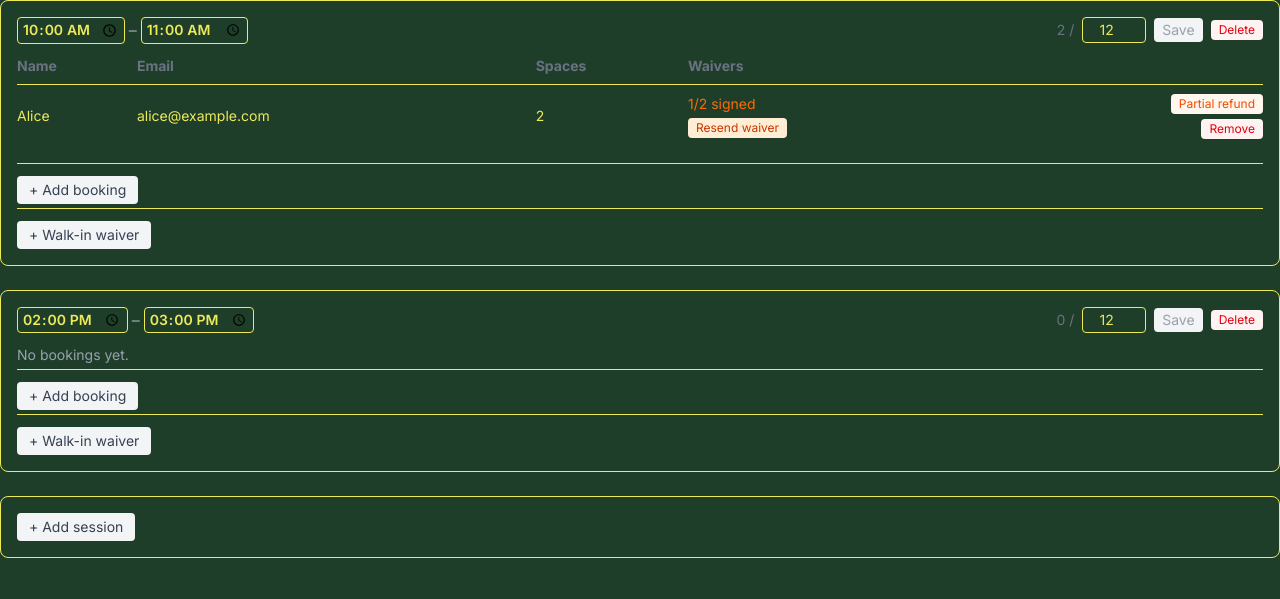
Scenario: SlotCapacityEditor › submits a partial refund with the correct payload
Click the button "Partial refund".
click(1217, 104)  # box left=1171, top=94, right=1263, bottom=114
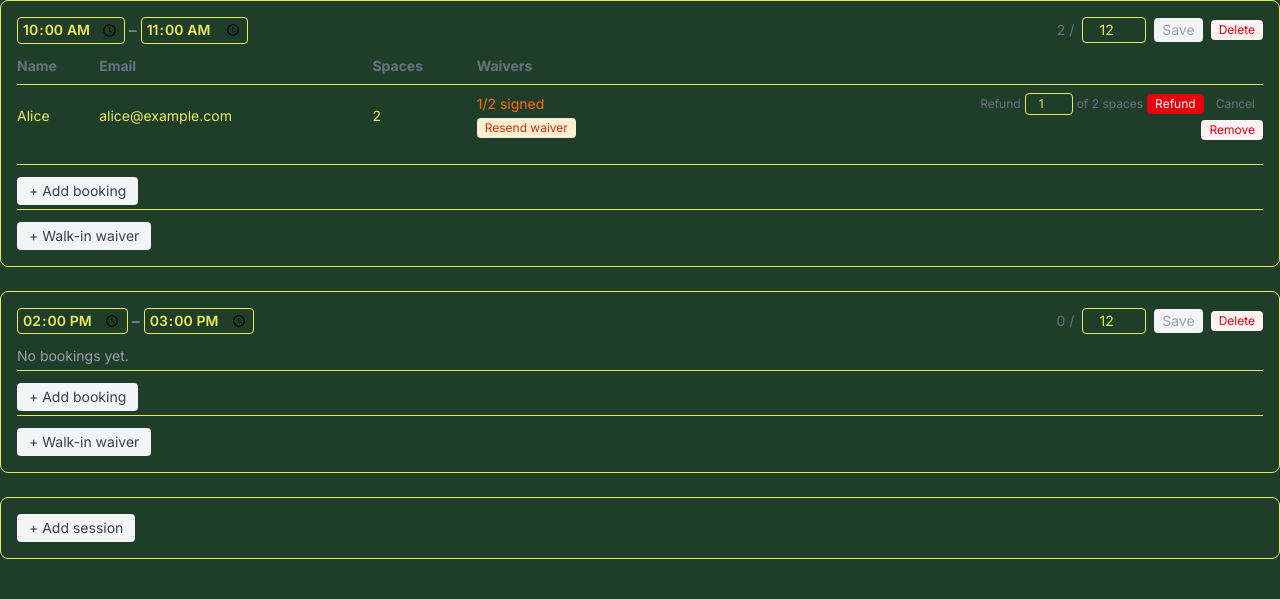
Click the button "Refund".
click(1175, 104)  # box left=1147, top=94, right=1204, bottom=114
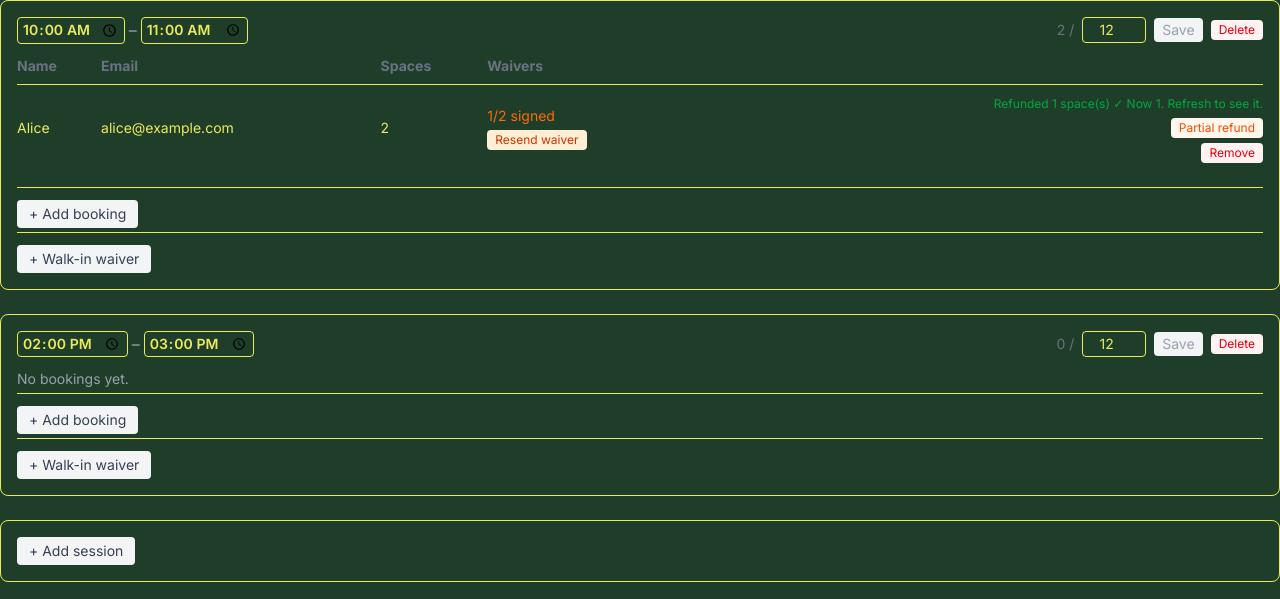
Now the text "Refunded 1 space(s) ✓ Now 1. Refresh to see it." is shown, box left=994, top=96, right=1263, bottom=111
